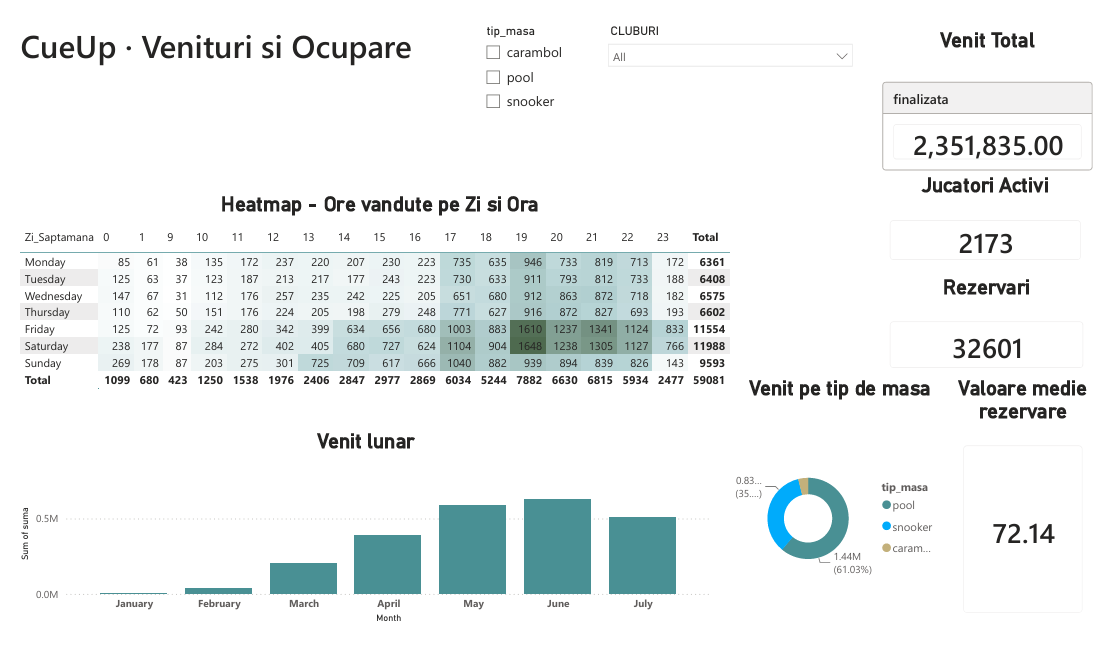

The dashboard page shown, as its layout file describes it:
{"tool":"powerbi","page":{"name":"Venituri si Ocupare","canvas":[1280,720],"ordinal":0},"visuals":[{"type":"cardVisual","title":"Venit Total","fields":{"Data":["Sum(Rezervari.suma)"],"Rows":["Rezervari.status"]},"box":[1020.7,10.4,259.2,193.5],"z":0},{"type":"cardVisual","title":"Rezervari","fields":{"Data":["CountNonNull(Rezervari.id_rezervare)"]},"box":[1018.4,301.8,262.7,127.9],"z":1000},{"type":"cardVisual","title":"Valoare medie rezervare","fields":{"Data":["Avg(Rezervari.suma)"]},"box":[1104.8,421.6,175.1,298.4],"z":2000},{"type":"cardVisual","title":"Jucatori Activi","fields":{"Data":["Count(Rezervari.id_jucator)"]},"box":[1018.4,182,259.2,119.8],"z":3000},{"type":"pivotTable","title":"Heatmap","fields":{"Columns":["Rezervari.Ora"],"Rows":["Rezervari.Zi_Saptamana"],"Values":["Sum(Rezervari.Durata_ore)"]},"box":[0,204,861.7,243.1],"z":4000},{"type":"clusteredColumnChart","title":"Venit lunar","fields":{"Category":["Rezervari.Luna.Variation.Date Hierarchy.Month","Rezervari.Luna.Variation.Date Hierarchy.Day"],"Y":["Sum(Rezervari.suma)"]},"box":[0,485,828.3,235],"z":5000},{"type":"donutChart","title":"Venit pe tip de masa","fields":{"Category":["Mese.tip_masa"],"Y":["Sum(Rezervari.suma)"]},"box":[845.6,421.6,259.2,299.5],"z":6000},{"type":"slicer","fields":{"Values":["Orase.nume_oras"]},"box":[369.8,0,174,63.4],"z":7000},{"type":"slicer","fields":{"Values":["Cluburi.nume"]},"box":[691.2,0,309.8,59.9],"z":8000},{"type":"slicer","fields":{"Values":["Mese.tip_masa"]},"box":[543.7,0,147.9,127.5],"z":9000},{"type":"textbox","box":[0,0,543.1,63.7],"z":9001}]}

Visuals, with their boxes in screenshot pixels (x1, y1, x2, y2), scaled from the page's 1280x720 canvas onto the 1116x645 screenshot:
"Venit Total" cardVisual: BBox(890, 9, 1115, 183)
"Rezervari" cardVisual: BBox(888, 270, 1115, 385)
"Valoare medie rezervare" cardVisual: BBox(963, 378, 1115, 644)
"Jucatori Activi" cardVisual: BBox(888, 163, 1114, 270)
"Heatmap" pivotTable: BBox(0, 183, 751, 401)
"Venit lunar" clusteredColumnChart: BBox(0, 434, 722, 644)
"Venit pe tip de masa" donutChart: BBox(737, 378, 963, 644)
slicer - Orase.nume_oras: BBox(322, 0, 474, 57)
slicer - Cluburi.nume: BBox(603, 0, 873, 54)
slicer - Mese.tip_masa: BBox(474, 0, 603, 114)
textbox: BBox(0, 0, 474, 57)
